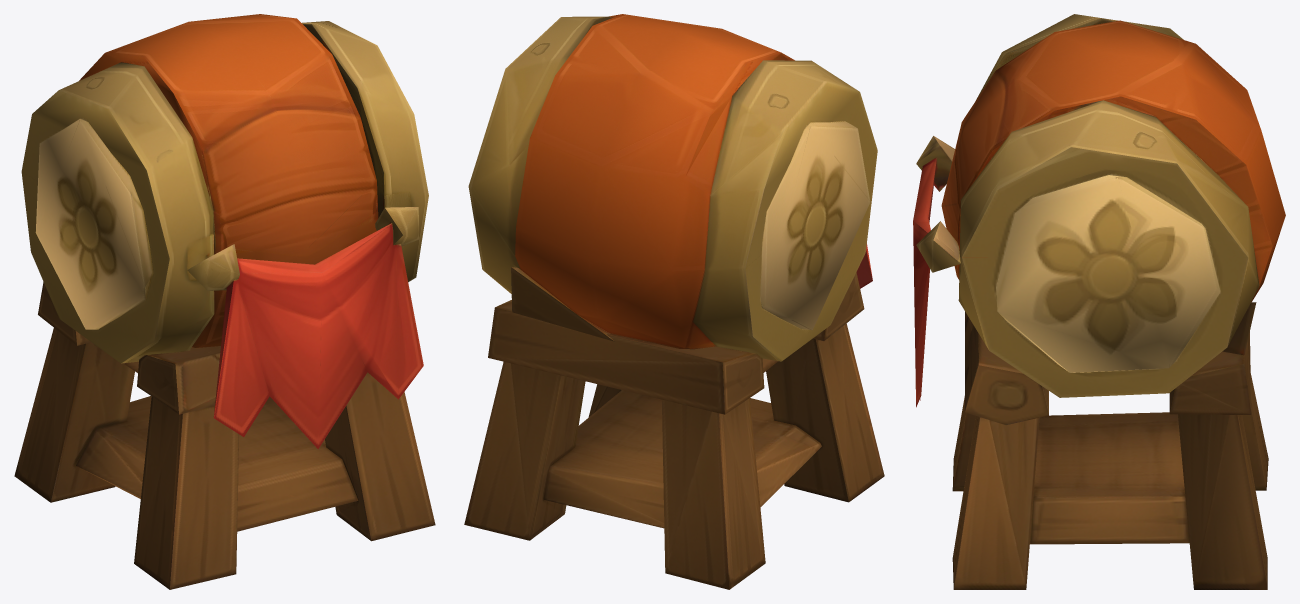
Rendered from Drump.fbx.
3 views of the same model, side by side, from view 1: azimuth 30°, elevation 25°; view 2: azimuth 150°, elevation 25°; view 3: azimuth 270°, elevation 25° (orthographic).
Parts seen in each view (by area): view 1: Drump; view 2: Drump; view 3: Drump.
Boxes of the visible parts, x1,y1,x2,y2 form: Drump: (14,14,435,589); Drump: (464,14,884,589); Drump: (913,14,1285,589).
Bounding box in the file's own units: 0.7594 × 1.2 × 0.8602.
